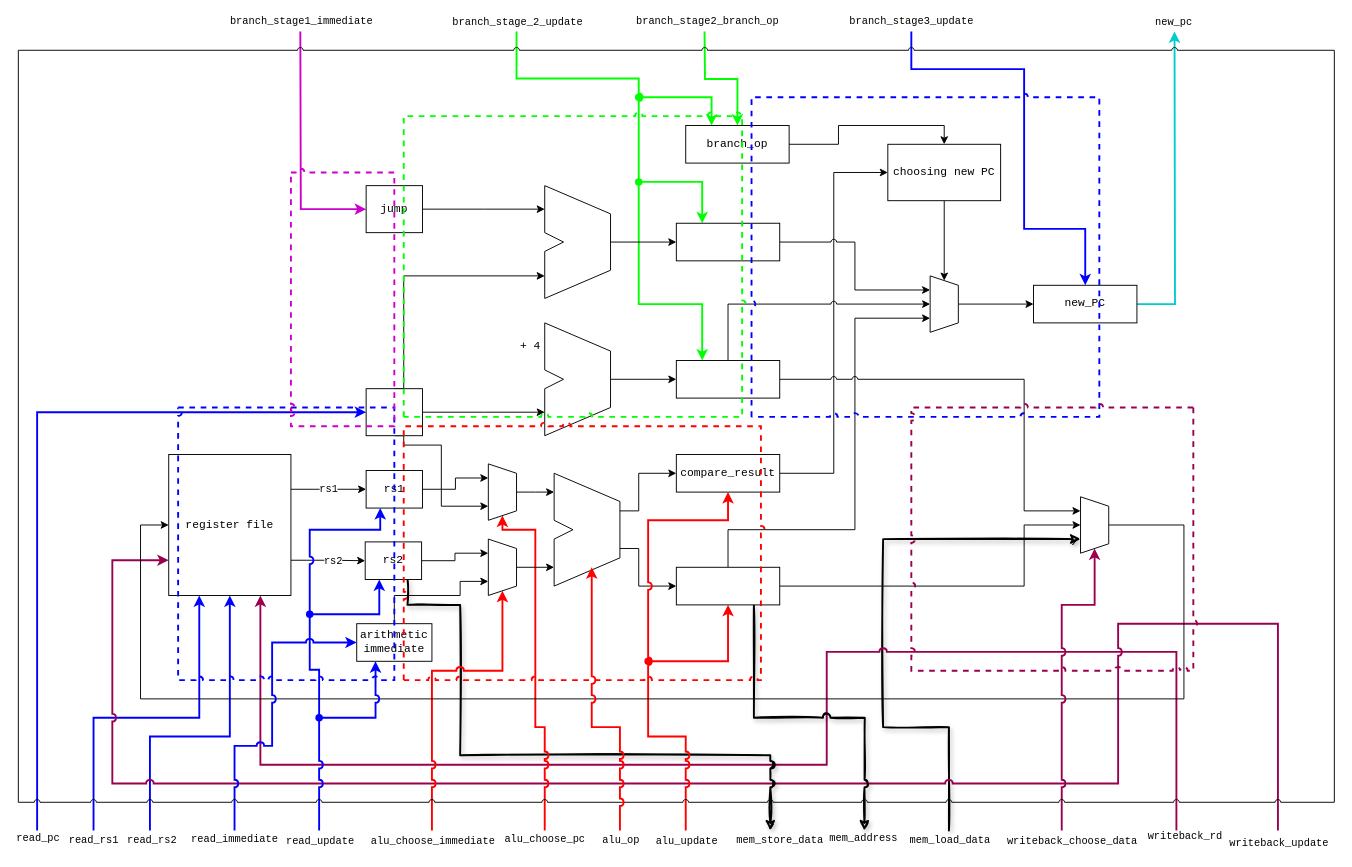
This 1352x867 diagram has some shape labels left out. Here are the shapes that lost their labels. From the top down, the centre of each, then its label:
At [727,241]: "branching address".
At [727,379]: "PC + 4".
At [394,412]: "PC".
At [727,585]: "ALU_result".
